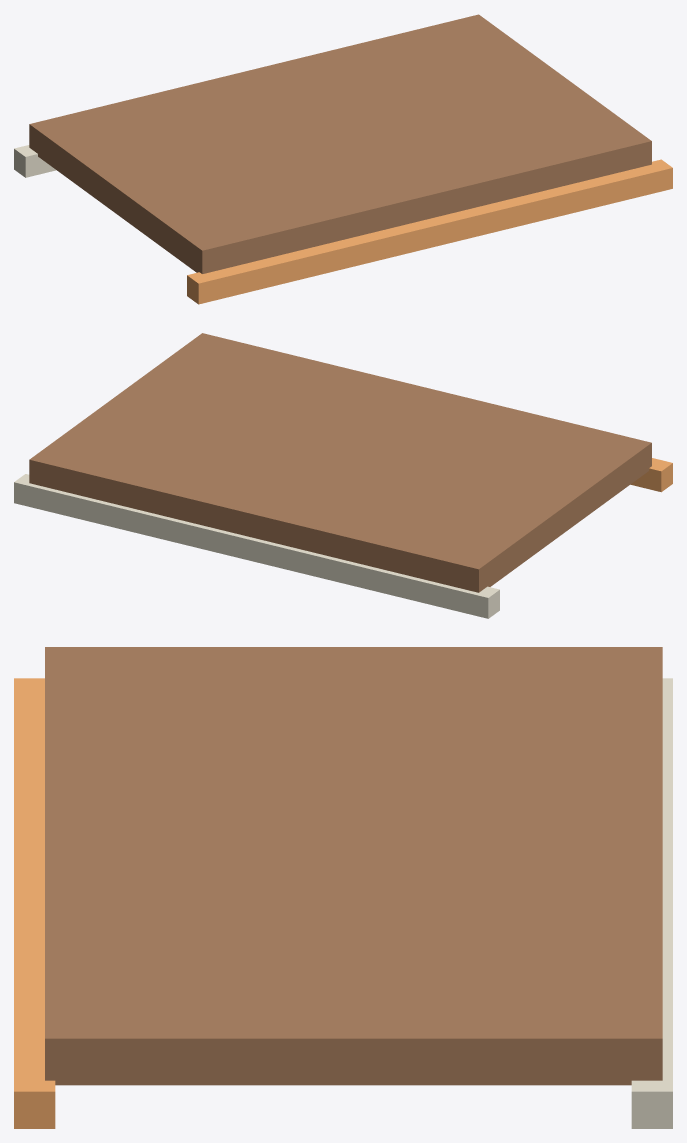
File: 01_world_facade.glb
3 views of the same model, one above another, from view 1: azimuth 30°, elevation 25°; view 2: azimuth 150°, elevation 25°; view 3: azimuth 270°, elevation 25° (orthographic). The views are drawn at different scales.
Visible parts, largest first — view 1: wall_panel_upgrade, trim_top, trim_bottom; view 2: wall_panel_upgrade, trim_bottom, trim_top; view 3: wall_panel_upgrade, trim_top, trim_bottom.
Part boxes in pixels (bbox=[...]): wall_panel_upgrade: bbox=[29, 14, 651, 273]; trim_top: bbox=[187, 159, 672, 304]; trim_bottom: bbox=[14, 145, 56, 177]; wall_panel_upgrade: bbox=[29, 333, 651, 592]; trim_bottom: bbox=[14, 474, 499, 618]; trim_top: bbox=[630, 458, 672, 492]; wall_panel_upgrade: bbox=[45, 647, 662, 1085]; trim_top: bbox=[14, 678, 55, 1128]; trim_bottom: bbox=[631, 678, 672, 1128].
Size of the model in its own units: 1.9 by 0.17 by 1.28.
